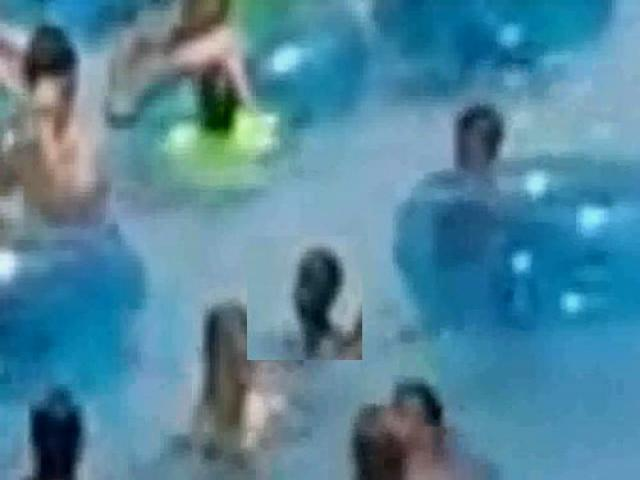drowning: (247, 236, 364, 360)
swimming: (403, 97, 640, 296), (0, 16, 122, 246), (158, 0, 288, 212), (333, 382, 559, 480), (171, 300, 283, 480), (0, 391, 132, 480)
